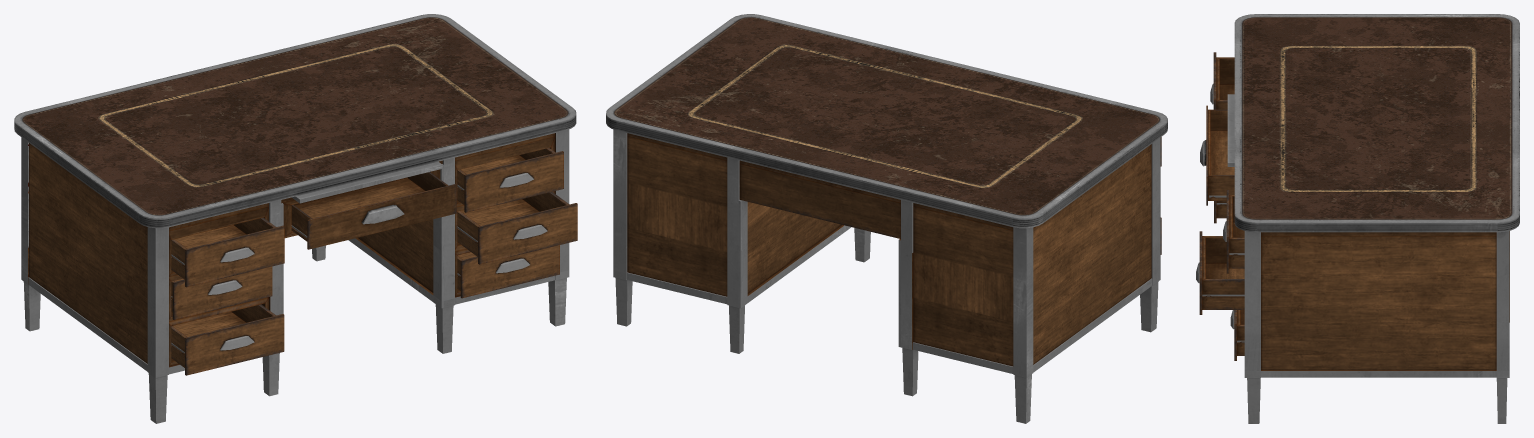
File: desk.glb
3 renders of one model, left to right at view 1: azimuth 30°, elevation 25°; view 2: azimuth 150°, elevation 25°; view 3: azimuth 270°, elevation 25°, orthographic.
Parts seen in each view (by area): view 1: Object_2; view 2: Object_2; view 3: Object_2.
Part boxes in pixels (<box>): Object_2: <box>14,14,577,423</box>; Object_2: <box>606,14,1167,423</box>; Object_2: <box>1196,14,1519,423</box>.
Size of the model in its own units: 1.9 by 0.8778 by 1.24.
1 material, 1 textured.
